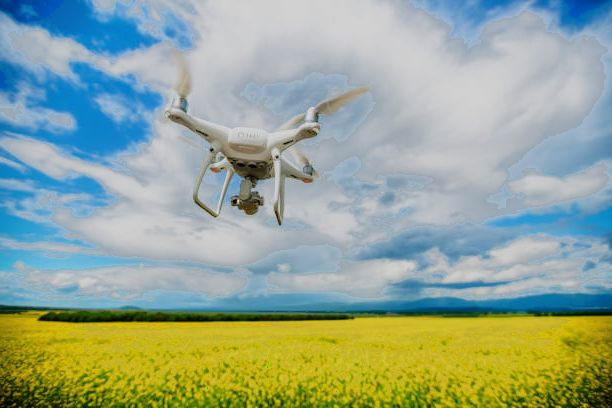Drone: (158, 44, 369, 231)
